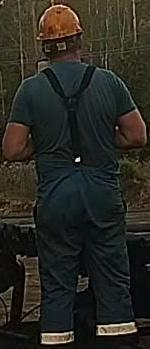helmet: (35, 3, 84, 41)
